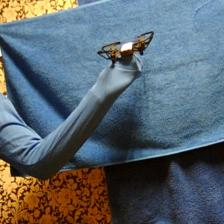drone: (98, 32, 152, 64)
